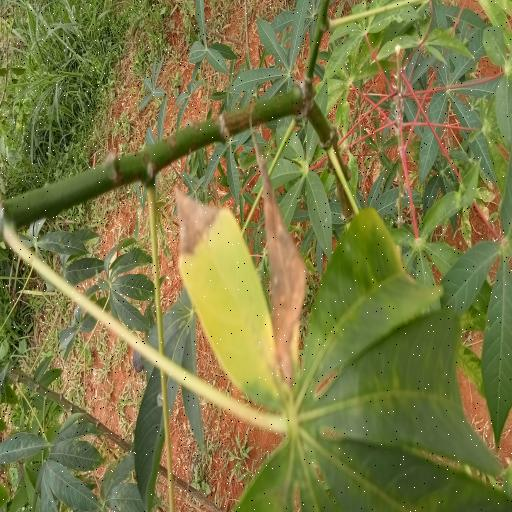Cassava_Root_Rot: (171, 135, 512, 512)
